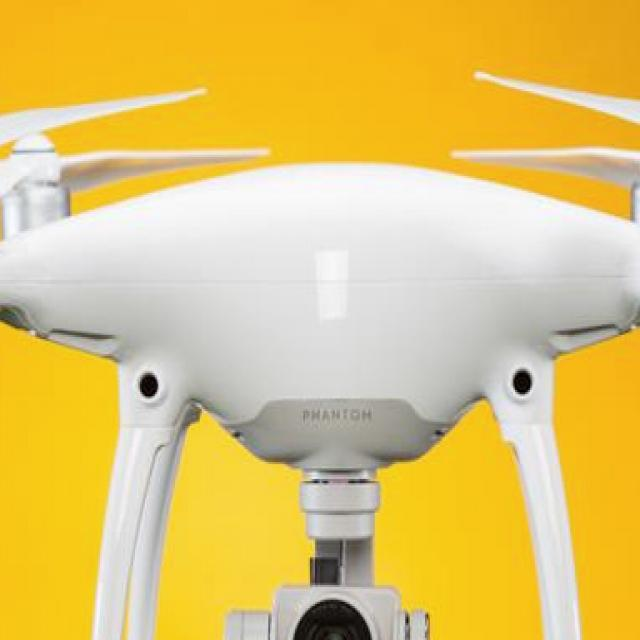drone: (0, 47, 640, 430)
